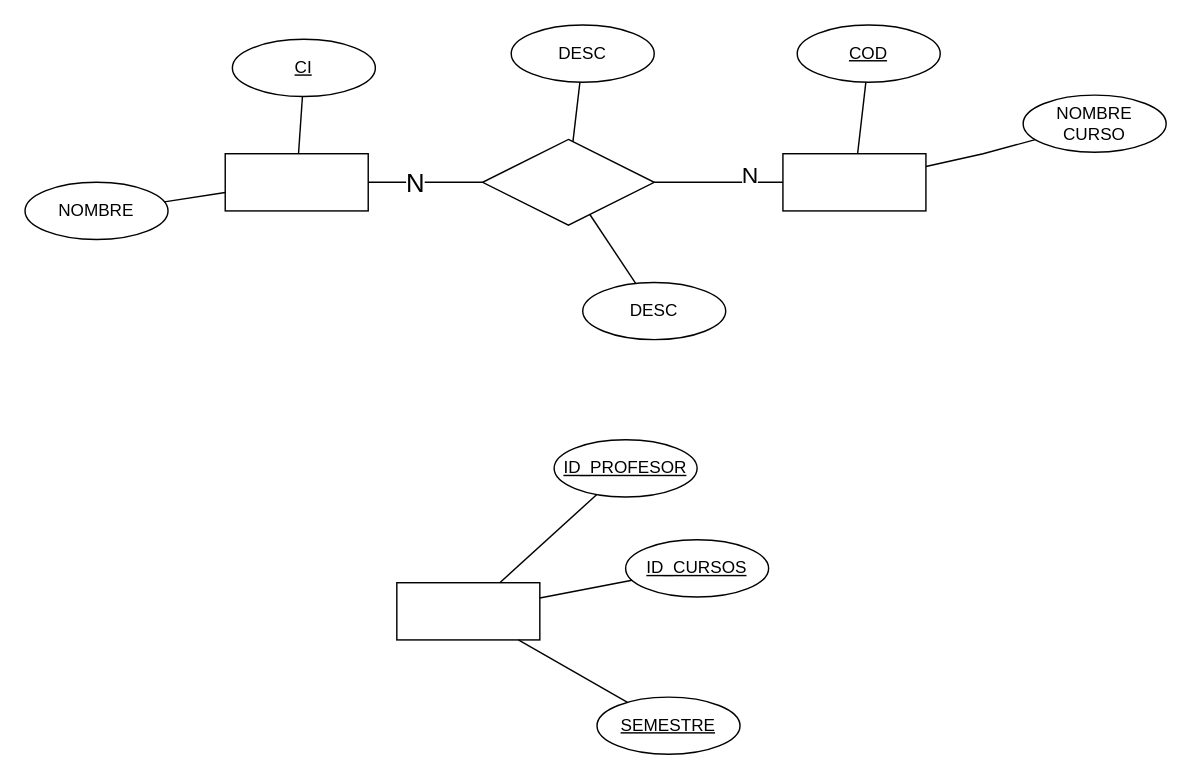
Image size: 1191x779. Some labels were removed from this diagram. Here are the shapes that lost their labels. From the top down, the centre of each, then its label:
the point at 296,181: ESTUDIANTE
the point at 567,181: aprueba
the point at 853,181: CURSO
the point at 467,610: INSTANCIA
